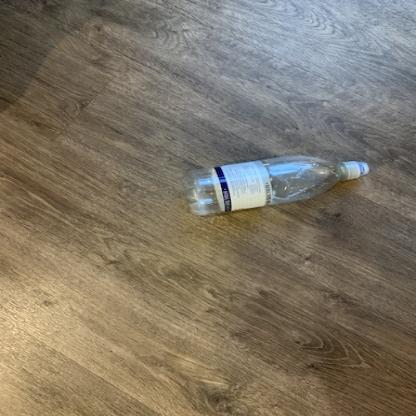trash: (184, 155, 369, 218)
